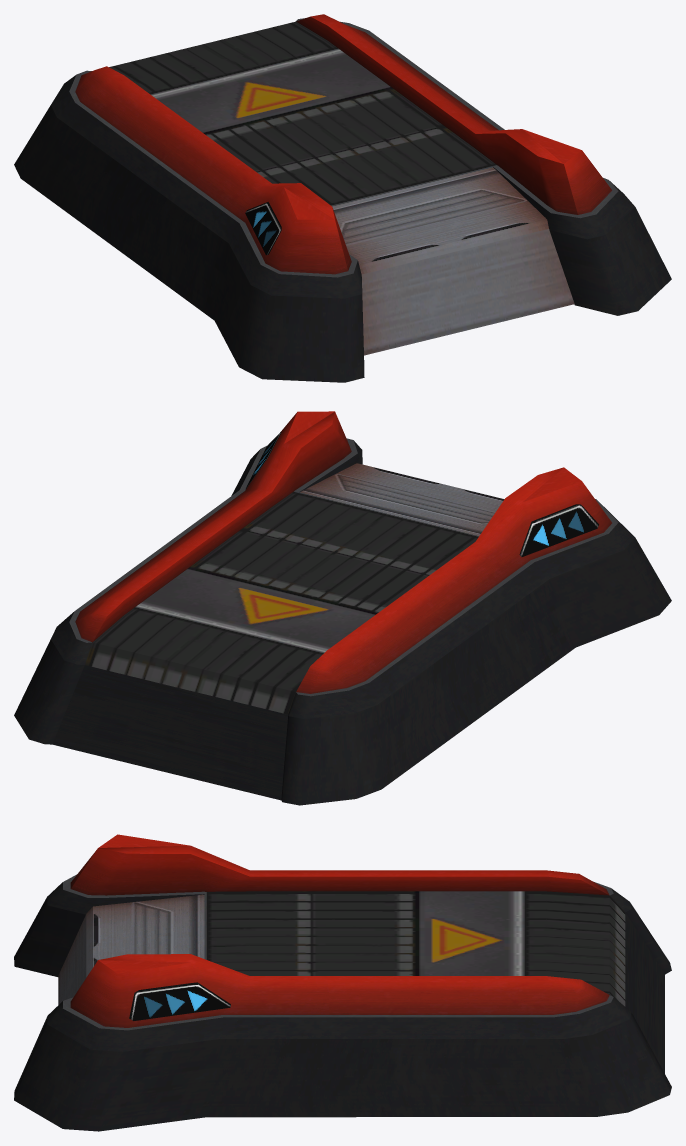
Rendered from dashpanelsmgl.obj.
3 renders of one model, top to bottom at view 1: azimuth 30°, elevation 25°; view 2: azimuth 150°, elevation 25°; view 3: azimuth 270°, elevation 25°, orthographic.
Parts seen in each view (by area): view 1: rdmobj00_rdmobj00.004_cmn_metal_ms_dashpanel_dif, rdmobj01_rdmobj01.005_cmn_metal_ms_dashbelt_dif, rdmobj02_rdmobj02.005_cmn_obj_panelarrow01_dif_HD; view 2: rdmobj00_rdmobj00.004_cmn_metal_ms_dashpanel_dif, rdmobj01_rdmobj01.005_cmn_metal_ms_dashbelt_dif, rdmobj02_rdmobj02.005_cmn_obj_panelarrow01_dif_HD; view 3: rdmobj00_rdmobj00.004_cmn_metal_ms_dashpanel_dif, rdmobj01_rdmobj01.005_cmn_metal_ms_dashbelt_dif, rdmobj02_rdmobj02.005_cmn_obj_panelarrow01_dif_HD.
Part boxes in pixels (left/top/right/bottom): rdmobj00_rdmobj00.004_cmn_metal_ms_dashpanel_dif: left=14, top=14, right=671, bottom=382; rdmobj01_rdmobj01.005_cmn_metal_ms_dashbelt_dif: left=109, top=21, right=496, bottom=205; rdmobj02_rdmobj02.005_cmn_obj_panelarrow01_dif_HD: left=245, top=206, right=278, bottom=254; rdmobj00_rdmobj00.004_cmn_metal_ms_dashpanel_dif: left=14, top=411, right=671, bottom=805; rdmobj01_rdmobj01.005_cmn_metal_ms_dashbelt_dif: left=85, top=491, right=478, bottom=714; rdmobj02_rdmobj02.005_cmn_obj_panelarrow01_dif_HD: left=246, top=436, right=597, bottom=556; rdmobj00_rdmobj00.004_cmn_metal_ms_dashpanel_dif: left=14, top=834, right=671, bottom=1131; rdmobj01_rdmobj01.005_cmn_metal_ms_dashbelt_dif: left=206, top=891, right=625, bottom=1006; rdmobj02_rdmobj02.005_cmn_obj_panelarrow01_dif_HD: left=133, top=988, right=229, bottom=1020.
Bounding box in the file's own units: 72.97 × 20.95 × 98.67.
